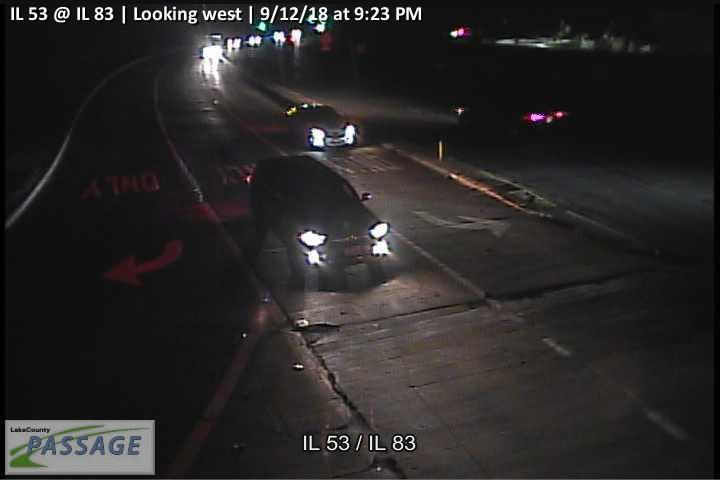SUV: (251, 156, 391, 277)
Sedan: (286, 102, 359, 151)
